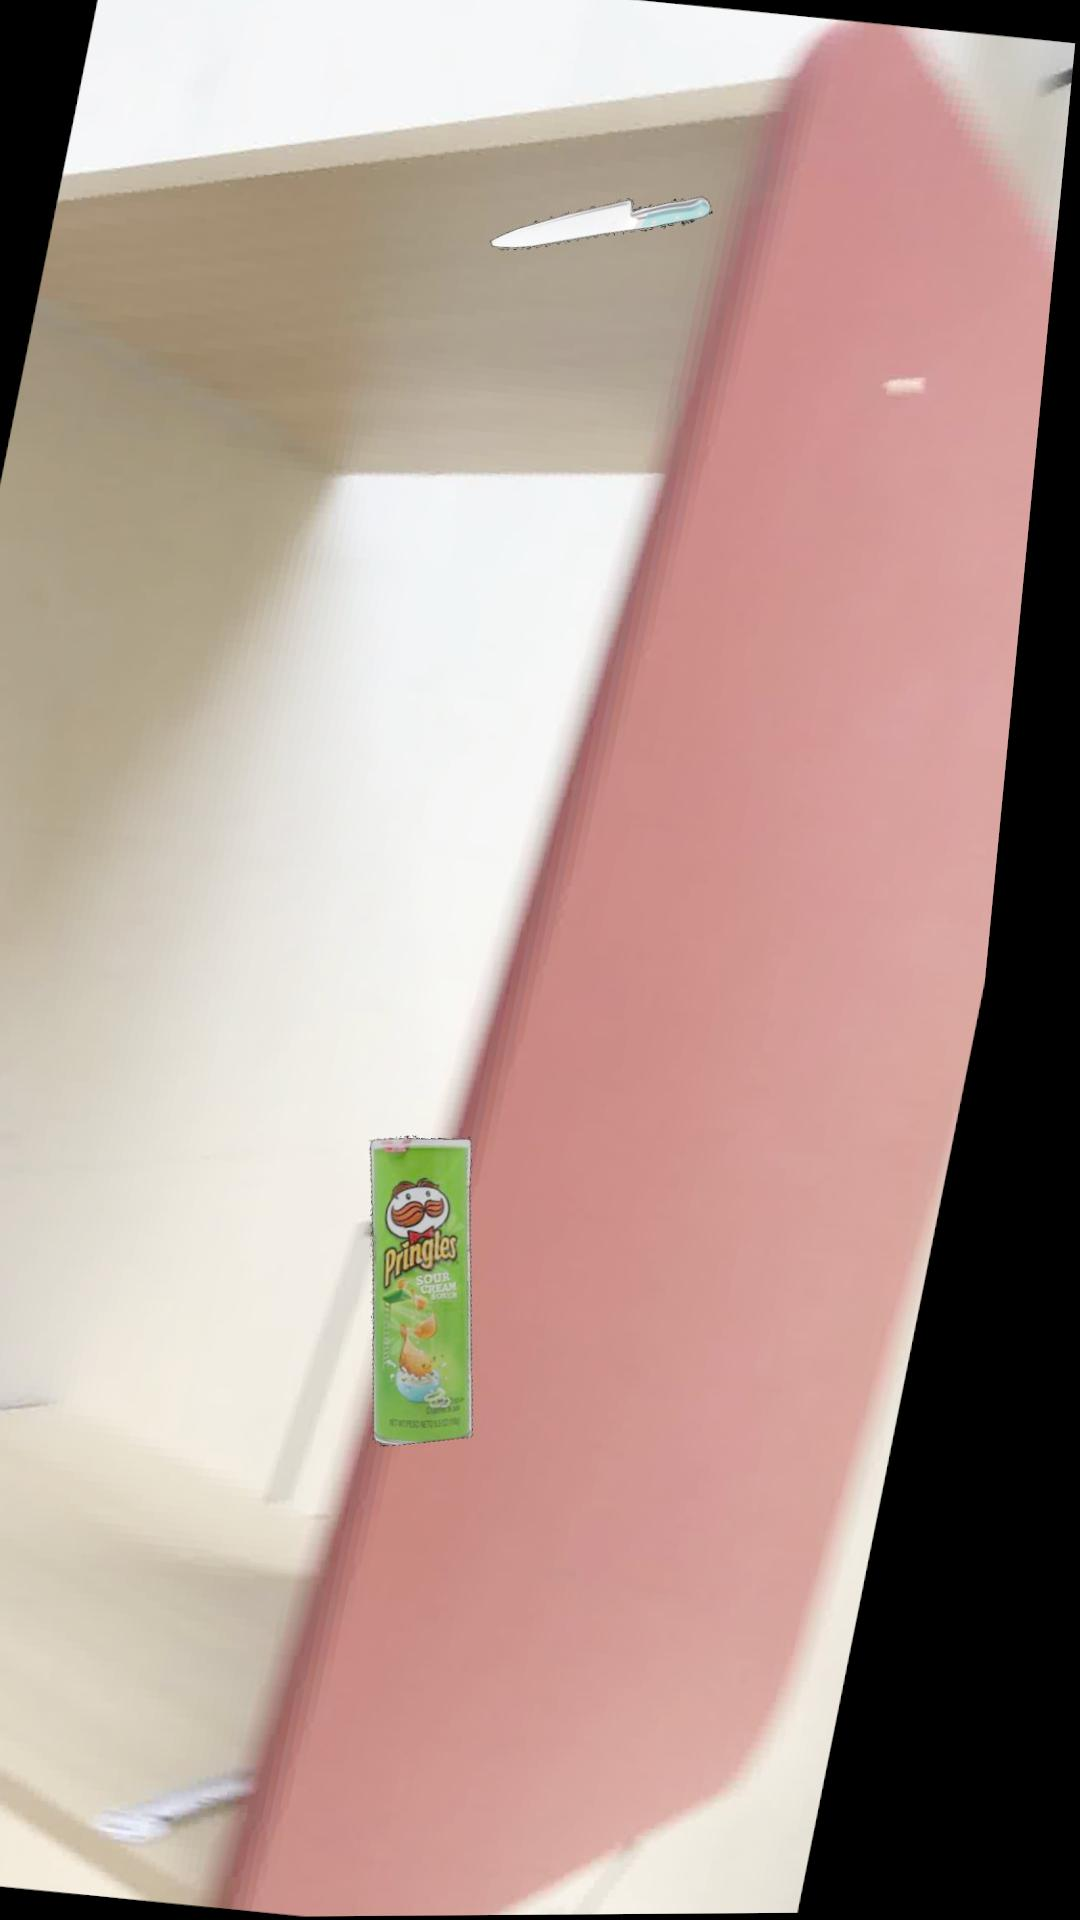knife: (493, 199, 715, 251)
pringles: (392, 1138, 500, 1448)
